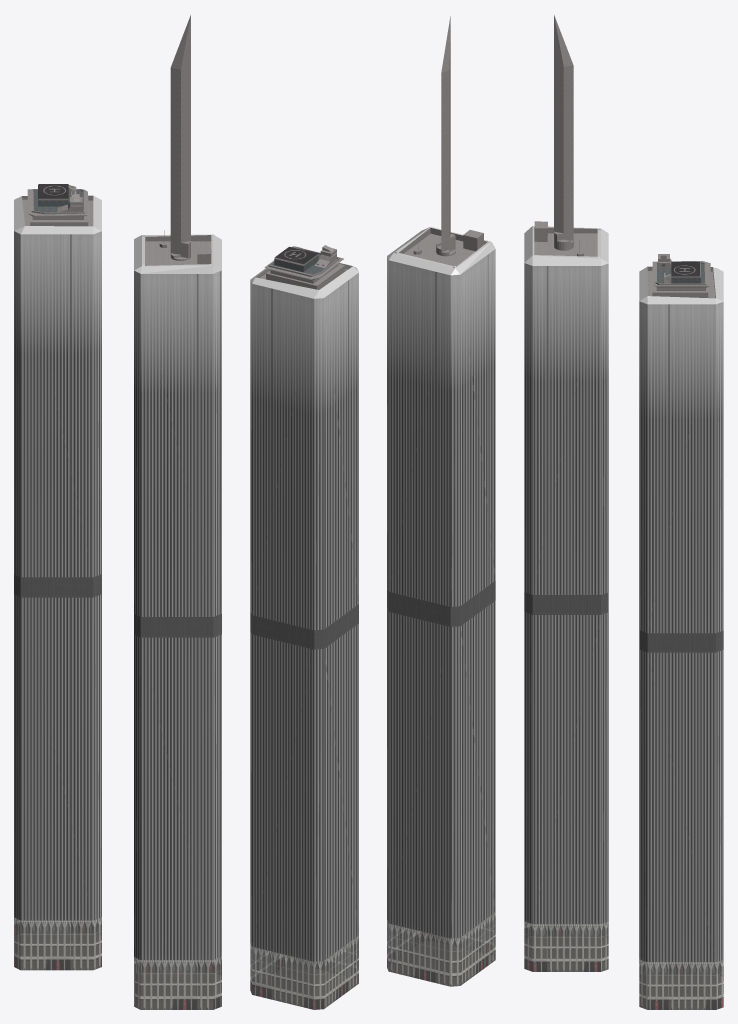
File: wtc.glb
3 renders of one model, left to right at view 1: azimuth 90°, elevation 25°; view 2: azimuth 150°, elevation 25°; view 3: azimuth 270°, elevation 25°, orthographic. The views are drawn at different scales.
Visible parts, largest first — view 1: Object_5, Object_2, Object_6, Object_7, Object_4, Object_9; view 2: Object_5, Object_2, Object_6, Object_7, Object_4; view 3: Object_5, Object_2, Object_6, Object_7, Object_4.
Part boxes in pixels (<box>): Object_5: <box>14,231,221,960</box>; Object_2: <box>14,15,221,1009</box>; Object_6: <box>14,917,221,1009</box>; Object_7: <box>14,574,221,637</box>; Object_4: <box>14,189,221,273</box>; Object_9: <box>33,190,83,212</box>; Object_5: <box>250,249,495,961</box>; Object_2: <box>251,16,494,1009</box>; Object_6: <box>250,912,495,1009</box>; Object_7: <box>250,581,495,649</box>; Object_4: <box>250,227,495,298</box>; Object_5: <box>524,263,723,962</box>; Object_2: <box>524,15,723,1009</box>; Object_6: <box>524,921,723,1009</box>; Object_7: <box>524,592,723,652</box>; Object_4: <box>524,226,723,304</box>.
Bounding box in the file's own units: 320 × 1892 × 364.
Materials: 8 (6 with a texture image).
